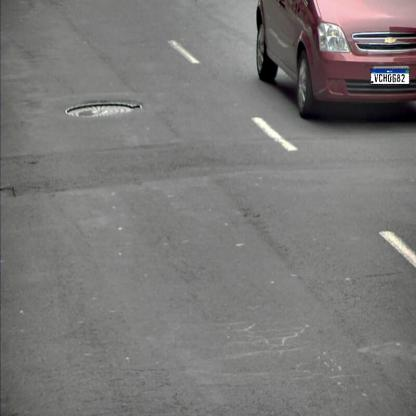PlacaM: (370, 69, 410, 84)
